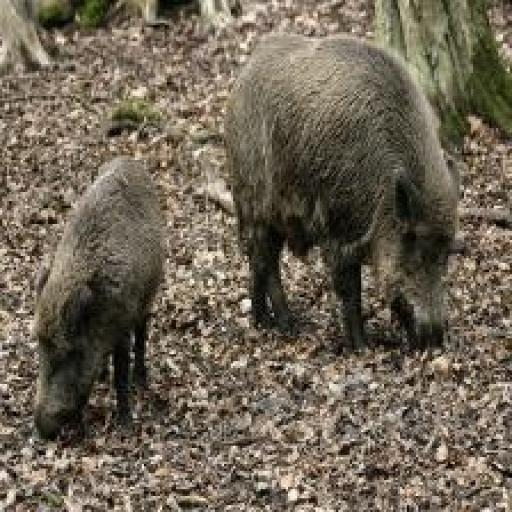Pig: (220, 32, 460, 352), (32, 153, 166, 438)
